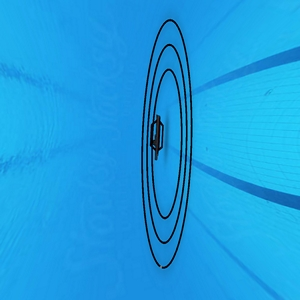circle: (138, 18, 190, 268)
submarine: (150, 115, 164, 158)
